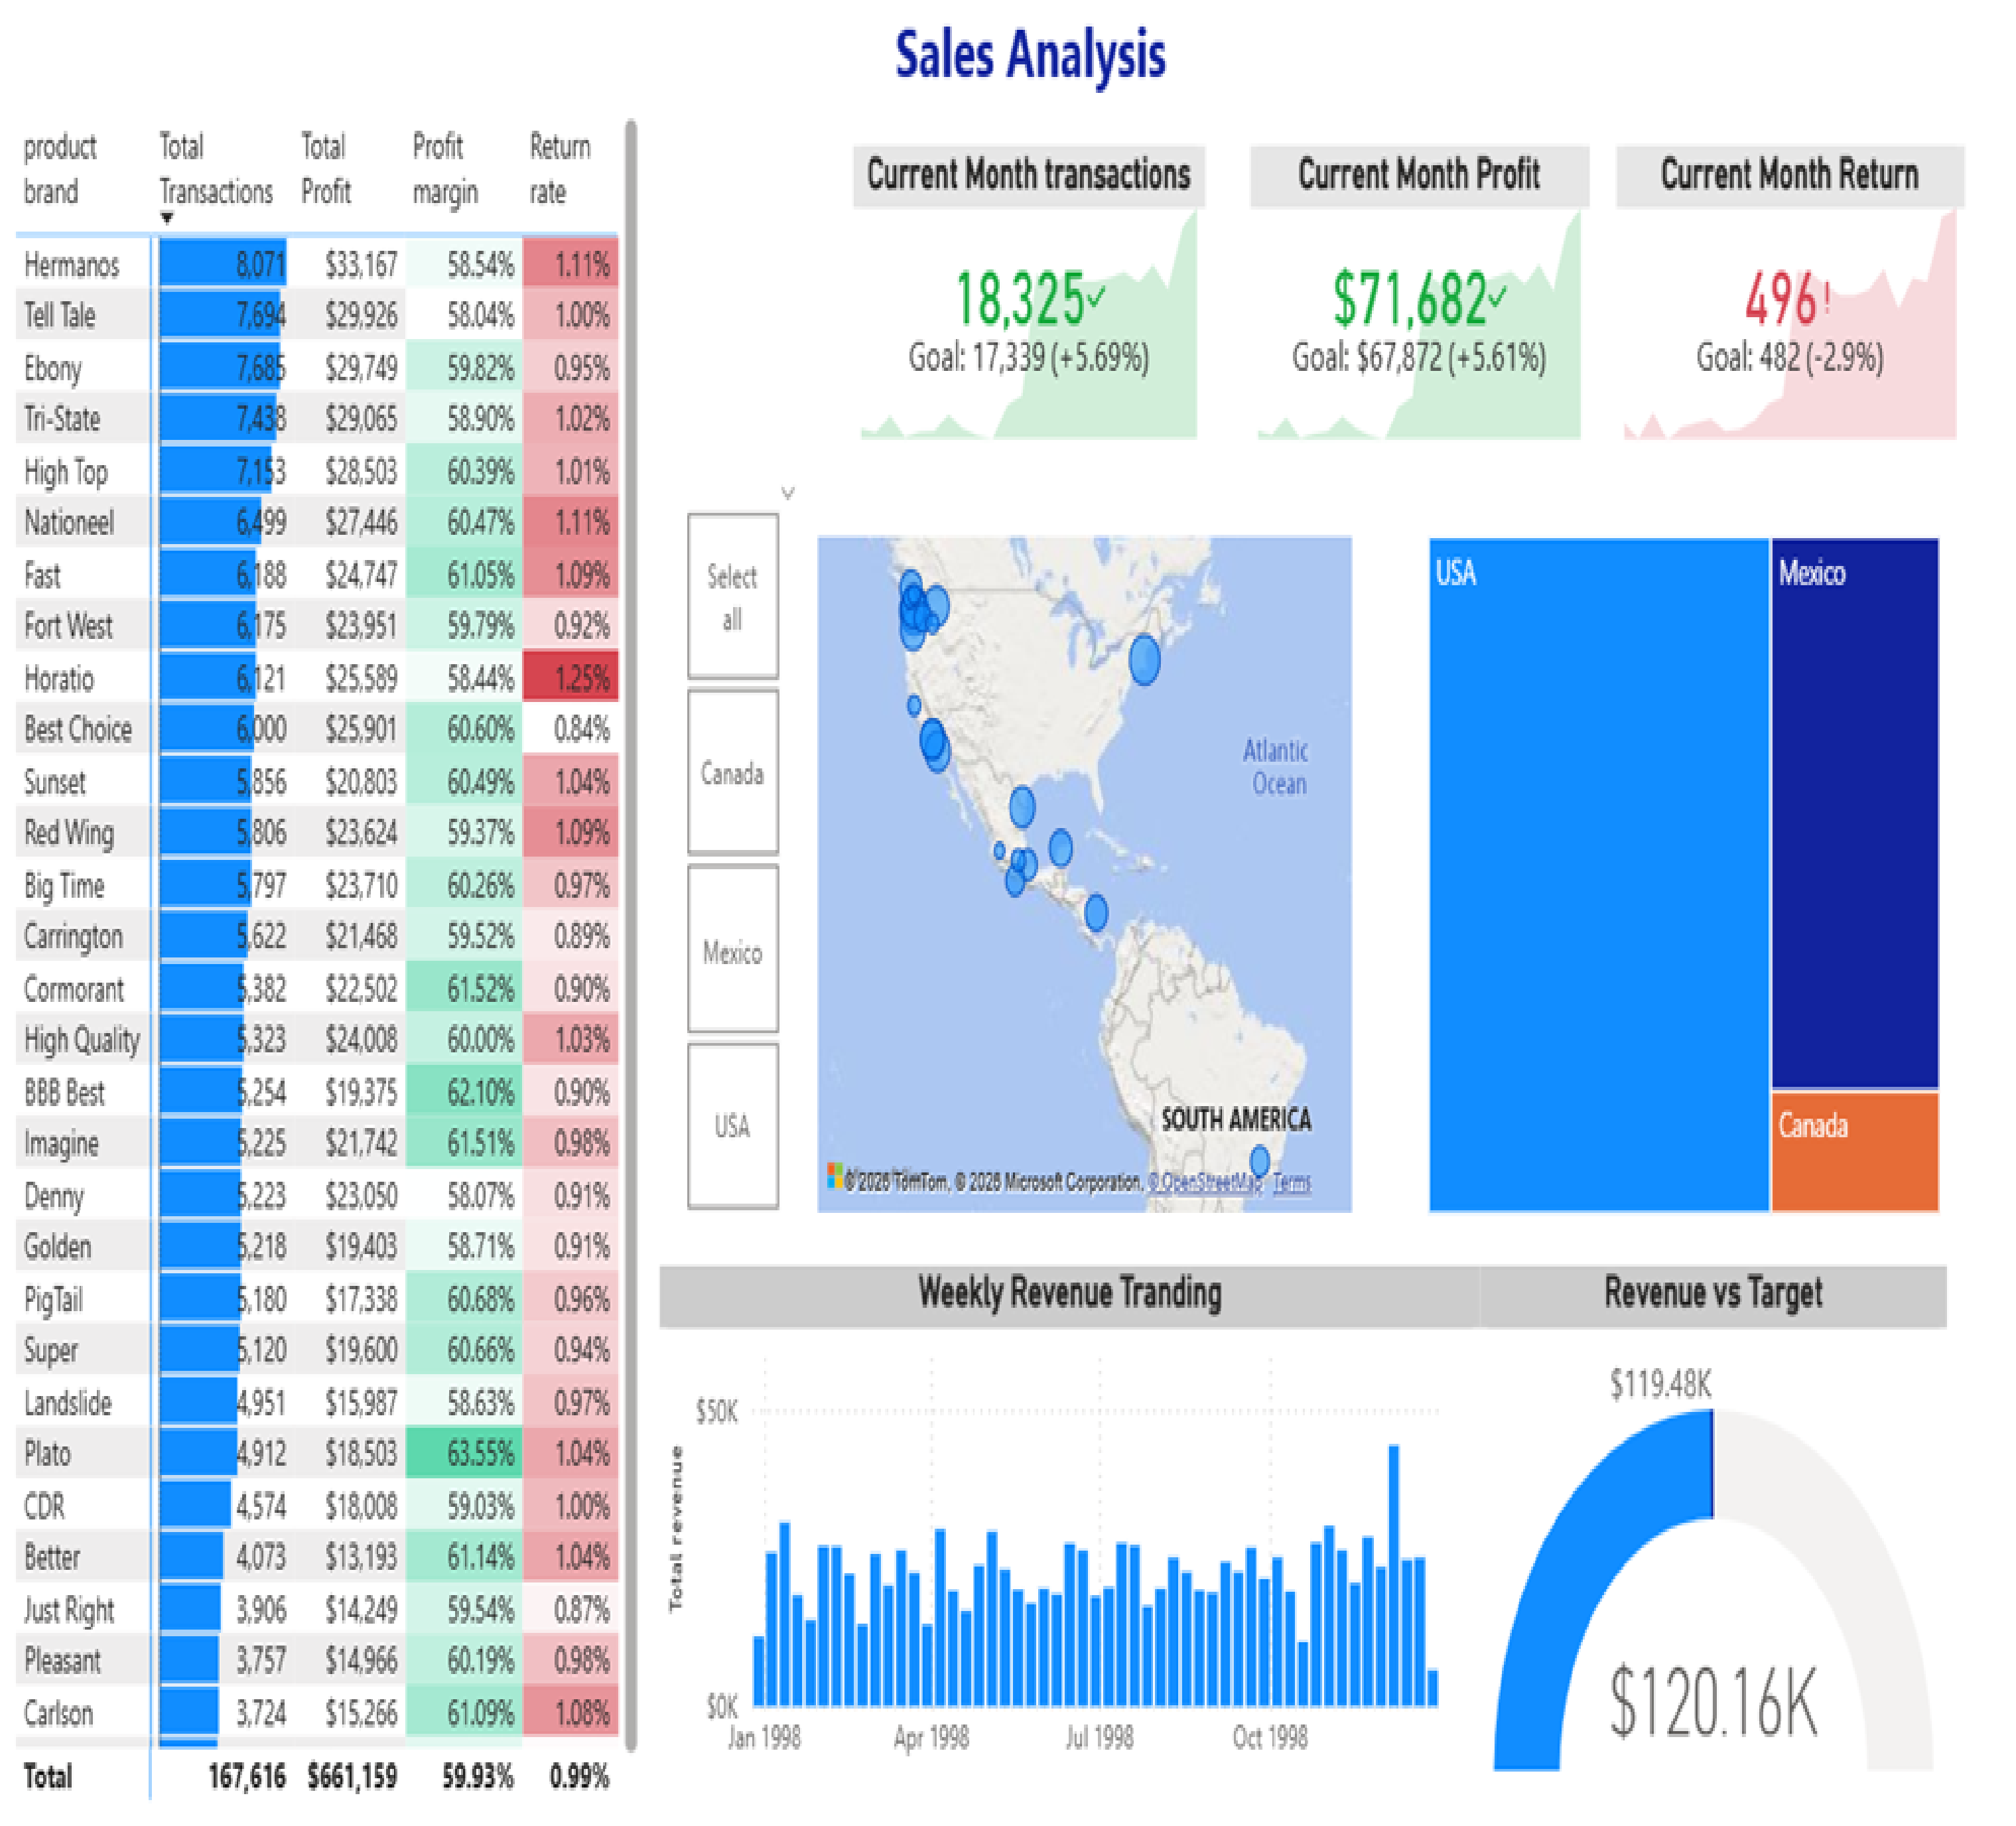

This screenshot's page, from the dashboard's own definition file:
{"tool":"powerbi","page":{"name":"Page 1","canvas":[1280,720],"ordinal":0},"visuals":[{"type":"textbox","box":[519.9,0,279.3,59.5],"z":0},{"type":"pivotTable","fields":{"Rows":["Products.product brand"],"Values":["All measures.Total Transactions","All measures.Total Profit","All measures.Profit margin","All measures.Return rate"]},"box":[8.6,44,406,660.3],"z":1000},{"type":"kpi","title":"Current Month transactions","fields":{"Indicator":["All measures.Total Transactions"],"TrendLine":["Calendar.Start of Month"],"Goal":["All measures.Last Month Transactions"]},"box":[546.6,59.9,223.8,118.6],"z":2000},{"type":"kpi","title":"Current Month Profit","fields":{"TrendLine":["Calendar.Start of Month"],"Goal":["All measures.Last Month Profit"],"Indicator":["All measures.Total Profit"]},"box":[799.1,59.5,215.7,118.9],"z":3000},{"type":"kpi","title":"Current Month Return","fields":{"TrendLine":["Calendar.Start of Month"],"Indicator":["All measures.Total Returns"],"Goal":["All measures.Last Month Returns"]},"box":[1031.4,59.5,221.2,118.9],"z":4000},{"type":"map","fields":{"Size":["All measures.Total Transactions"],"Category":["Stores.store city"]},"box":[519.7,206.7,348.5,271.5],"z":5000},{"type":"slicer","fields":{"Values":["Stores.store country"]},"box":[414.5,187.1,107.6,291],"z":6000},{"type":"treemap","fields":{"Values":["All measures.Total Transactions"],"Group":["Stores.store country","Stores.store state","Stores.store city"]},"box":[907.3,206.7,335.1,271.5],"z":7000},{"type":"columnChart","title":"Weekly Revenue Tranding","fields":{"Y":["All measures.Total revenue"],"Category":["Calendar.Start of Week"]},"box":[423.1,492.8,522.1,200.5],"z":8000},{"type":"gauge","title":"Revenue vs Target","fields":{"Y":["All measures.Total revenue"],"TargetValue":["All measures.Revenue target"]},"box":[945.2,492.8,297.1,200.5],"z":9000}]}

Visuals, with their boxes on the page's 1280x720 design canvas (x1, y1, x2, y2). These are canvas units, not pixel positions in the 2016x1826 screenshot, which may show the page scaled, cropped or inside an application window:
textbox: <box>520,0,799,60</box>
pivotTable - Products.product brand x All measures.Total Transactions: <box>9,44,415,704</box>
"Current Month transactions" kpi: <box>547,60,770,178</box>
"Current Month Profit" kpi: <box>799,60,1015,178</box>
"Current Month Return" kpi: <box>1031,60,1253,178</box>
map - All measures.Total Transactions x Stores.store city: <box>520,207,868,478</box>
slicer - Stores.store country: <box>414,187,522,478</box>
treemap - All measures.Total Transactions x Stores.store country: <box>907,207,1242,478</box>
"Weekly Revenue Tranding" columnChart: <box>423,493,945,693</box>
"Revenue vs Target" gauge: <box>945,493,1242,693</box>
